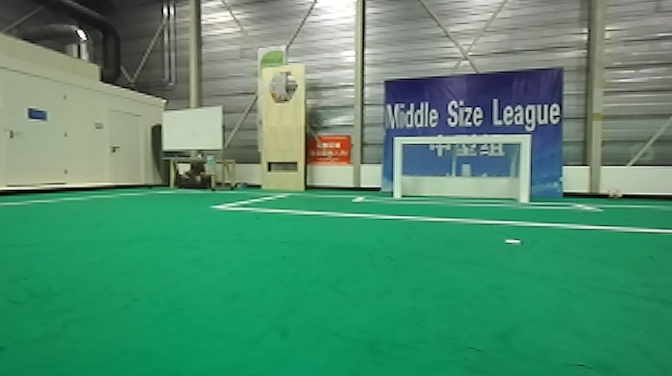ball: (605, 187, 625, 199)
goalpost: (513, 132, 530, 202), (392, 134, 405, 198)
